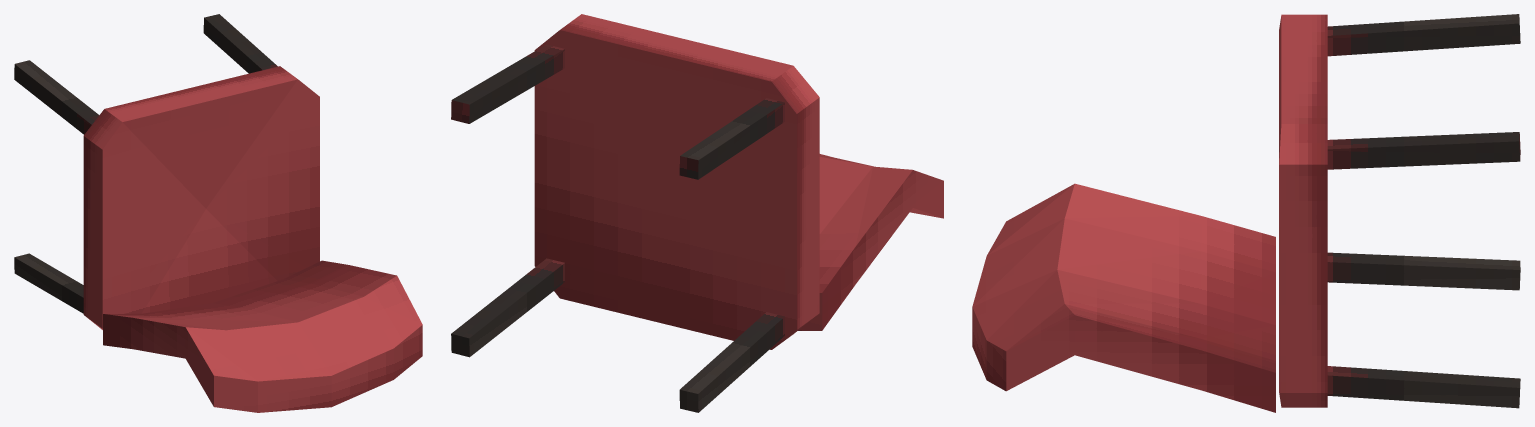
File: pz_chair_seating_indoor_01_modern_red_fidelity_r1.obj
The picture shows the model from 3 angles, left to right: view 1: azimuth 30°, elevation 25°; view 2: azimuth 150°, elevation 25°; view 3: azimuth 270°, elevation 25°; orthographic projection. The views are drawn at different scales.
Parts seen in each view (by area): view 1: seat, back, frame; view 2: seat, frame, back; view 3: back, frame, seat.
Boxes of the visible parts, x1,y1,x2,y2 form: seat: [83, 66, 319, 329]; back: [103, 260, 422, 412]; frame: [14, 14, 277, 313]; seat: [534, 14, 819, 349]; frame: [451, 44, 784, 412]; back: [798, 154, 943, 330]; back: [972, 183, 1275, 412]; frame: [1327, 14, 1520, 408]; seat: [1279, 14, 1327, 407].
Bounding box in the file's own units: 0.6093 × 0.6184 × 1.04.
1 material, 1 textured.
